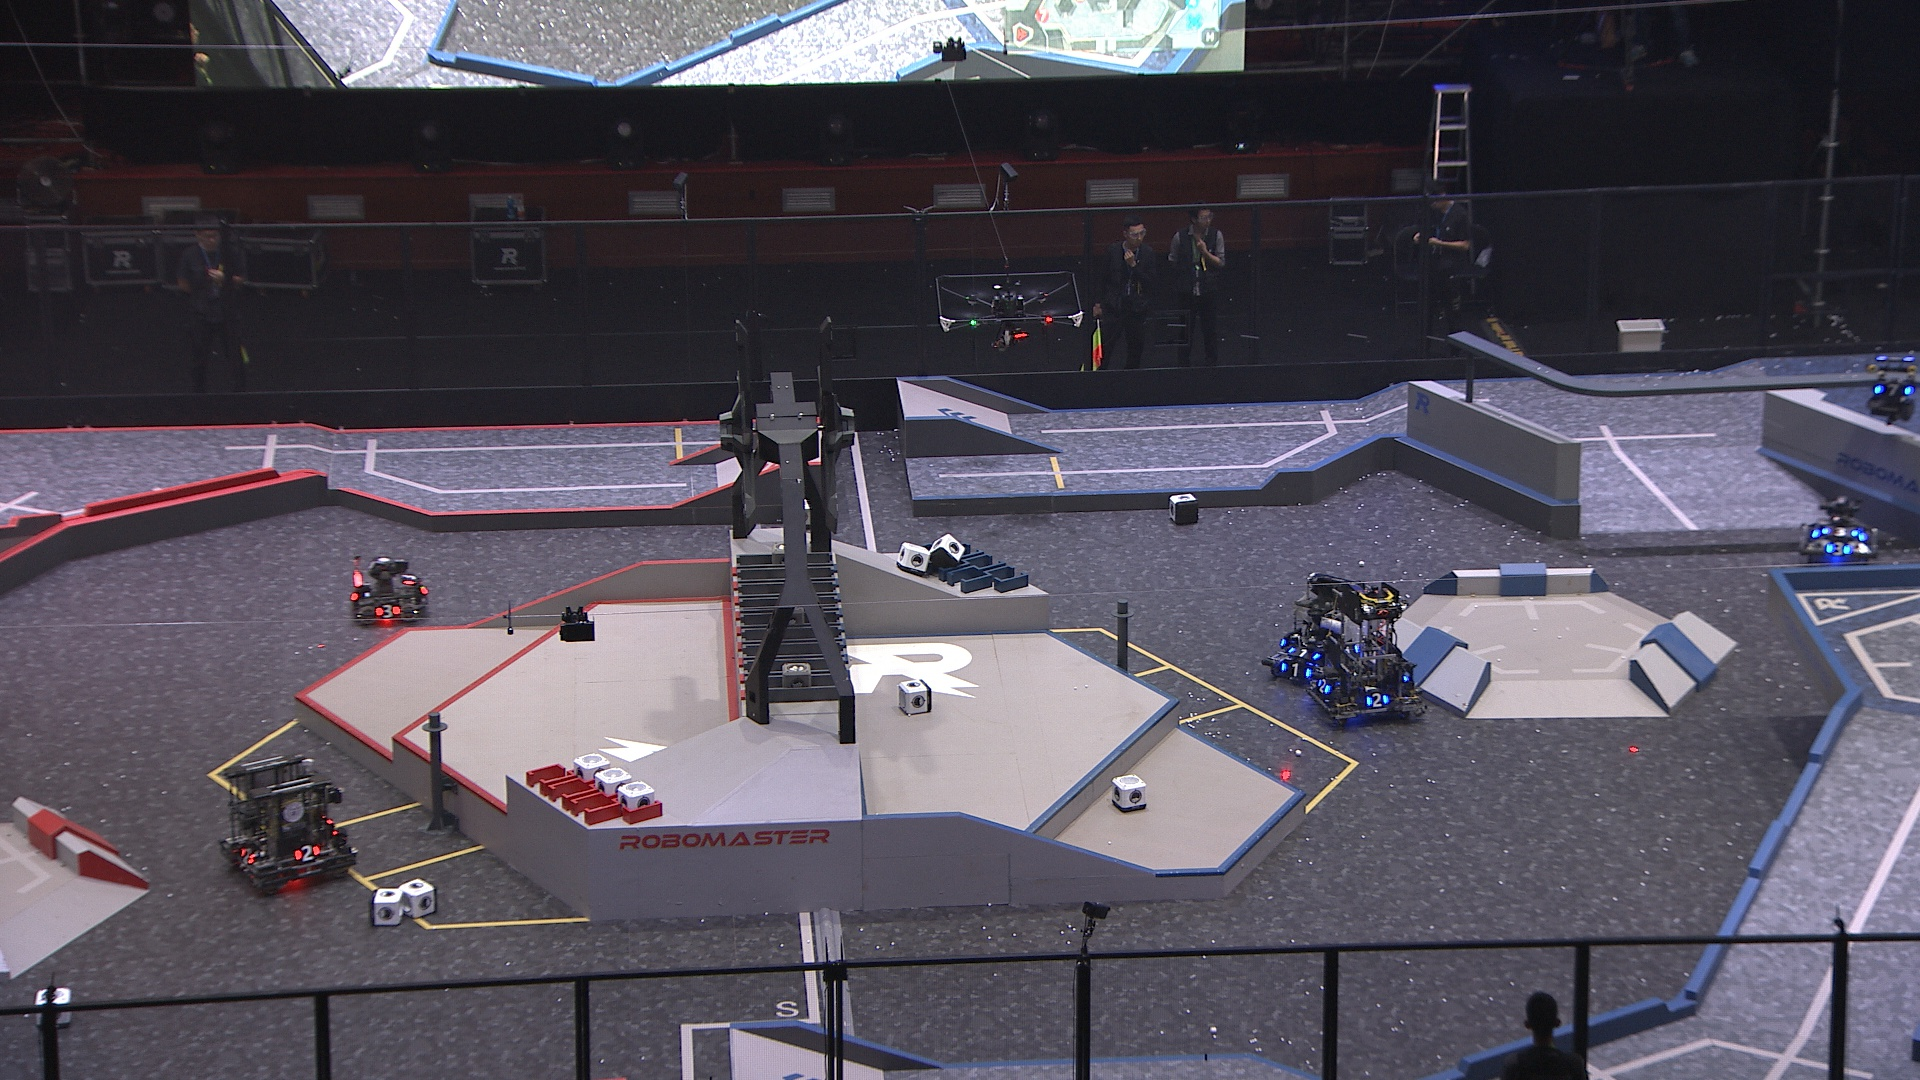armor: (1871, 380, 1912, 400), (1821, 524, 1859, 541), (1280, 662, 1313, 680), (291, 841, 320, 861), (1288, 642, 1321, 657), (1365, 692, 1390, 708), (237, 847, 256, 868), (1280, 626, 1300, 645), (375, 604, 400, 618), (1825, 541, 1851, 553), (401, 571, 417, 585), (1317, 676, 1329, 695)
car: (214, 756, 357, 891), (1302, 588, 1424, 727), (1258, 568, 1367, 688), (1797, 495, 1880, 566), (347, 553, 433, 621)
watcher: (1866, 353, 1920, 429)
